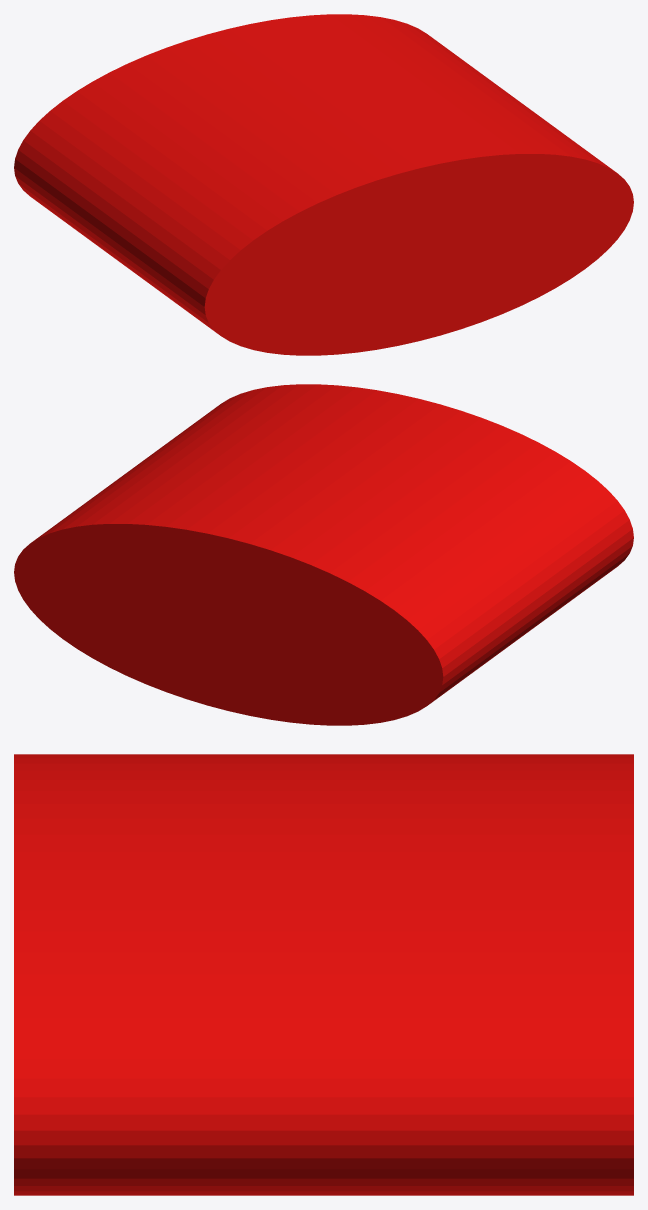
Rendered from block_red_ellipse_cylinder.obj.
3 renders of one model, top to bottom at view 1: azimuth 30°, elevation 25°; view 2: azimuth 150°, elevation 25°; view 3: azimuth 270°, elevation 25°, orthographic. The views are drawn at different scales.
Visible parts, largest first — view 1: block_red_ellipse_cylinder; view 2: block_red_ellipse_cylinder; view 3: block_red_ellipse_cylinder.
Boxes of the visible parts, x1,y1,x2,y2 form: block_red_ellipse_cylinder: (14, 14, 633, 355); block_red_ellipse_cylinder: (14, 384, 633, 725); block_red_ellipse_cylinder: (14, 754, 633, 1195).
Size of the model in its own units: 0.052 by 0.02 by 0.04.
